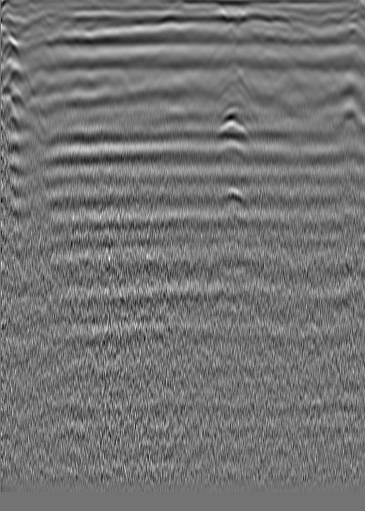가스: (219, 184, 246, 211)
상수: (298, 25, 318, 45)
오수: (31, 23, 51, 43)
우수: (157, 14, 177, 34)
